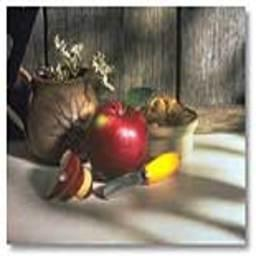apple: (83, 100, 149, 182)
